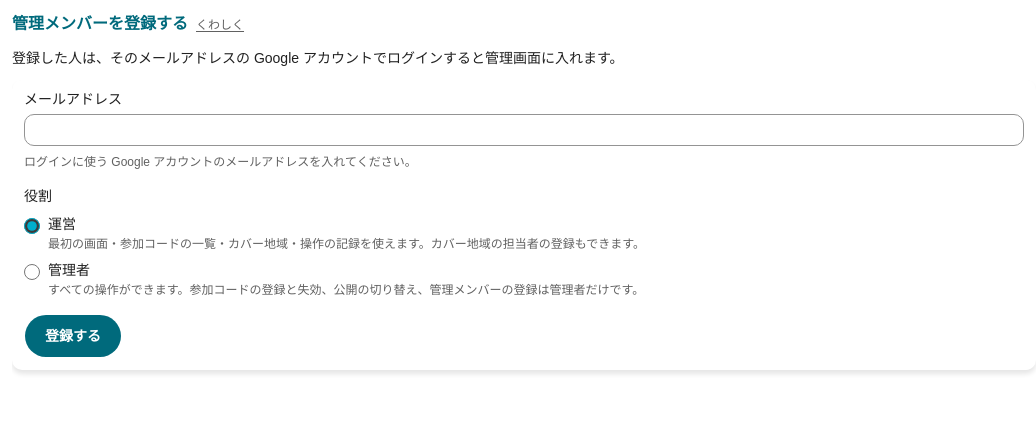
メールの形でなければ、ダイアログの前に文言を出す
The width and height of the screenshot is (1036, 428).
In the field labelled "メールアドレス": (524, 130) [24, 114, 1024, 146], type "not-an-email"
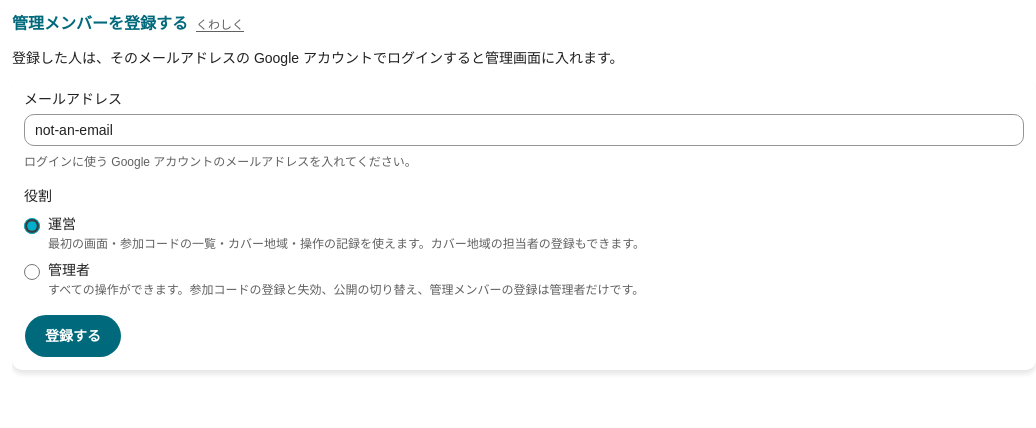
Click the button "登録する": click(73, 336) [24, 314, 122, 358]
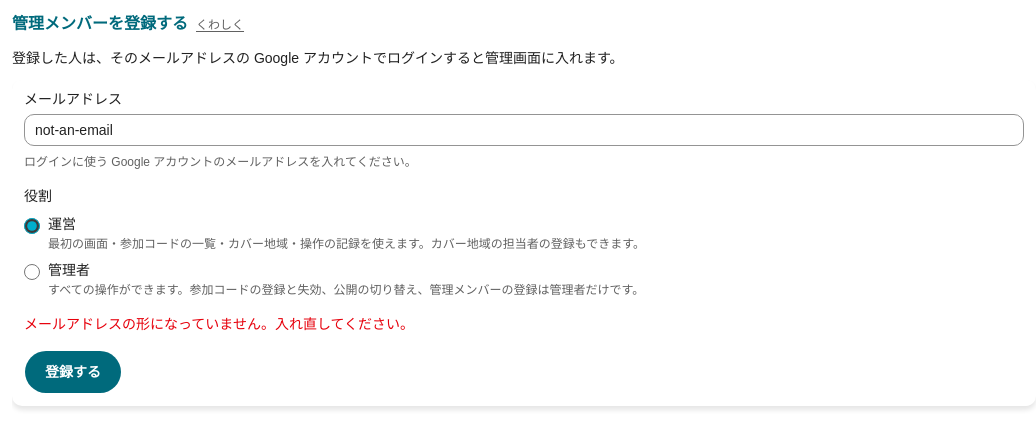
Check: the message shows "メールアドレスの形になっていません", box [24, 316, 414, 332]
